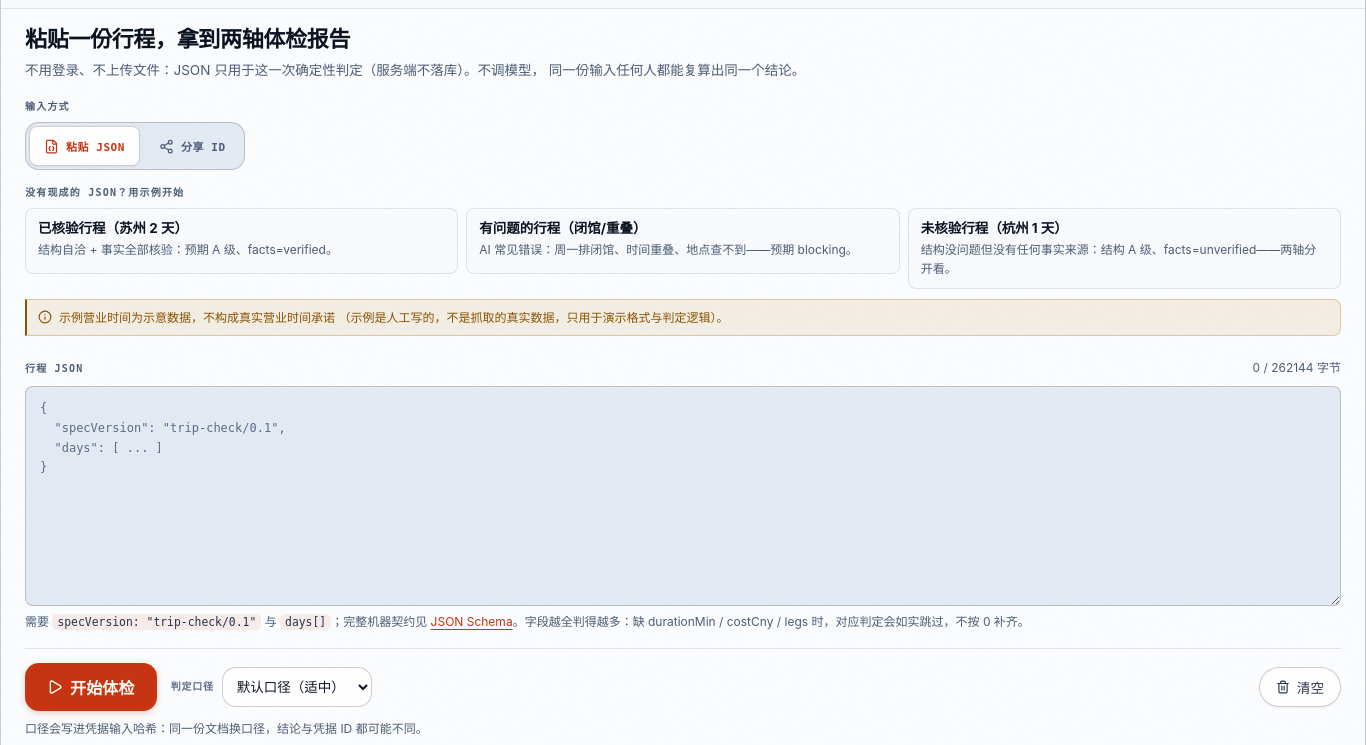
Test: TripCheckPlayground › 空输入：不发请求，给出本地提示
Click the button "开始体检".
click(91, 687)  # box [25, 663, 157, 711]
(page scrolled)
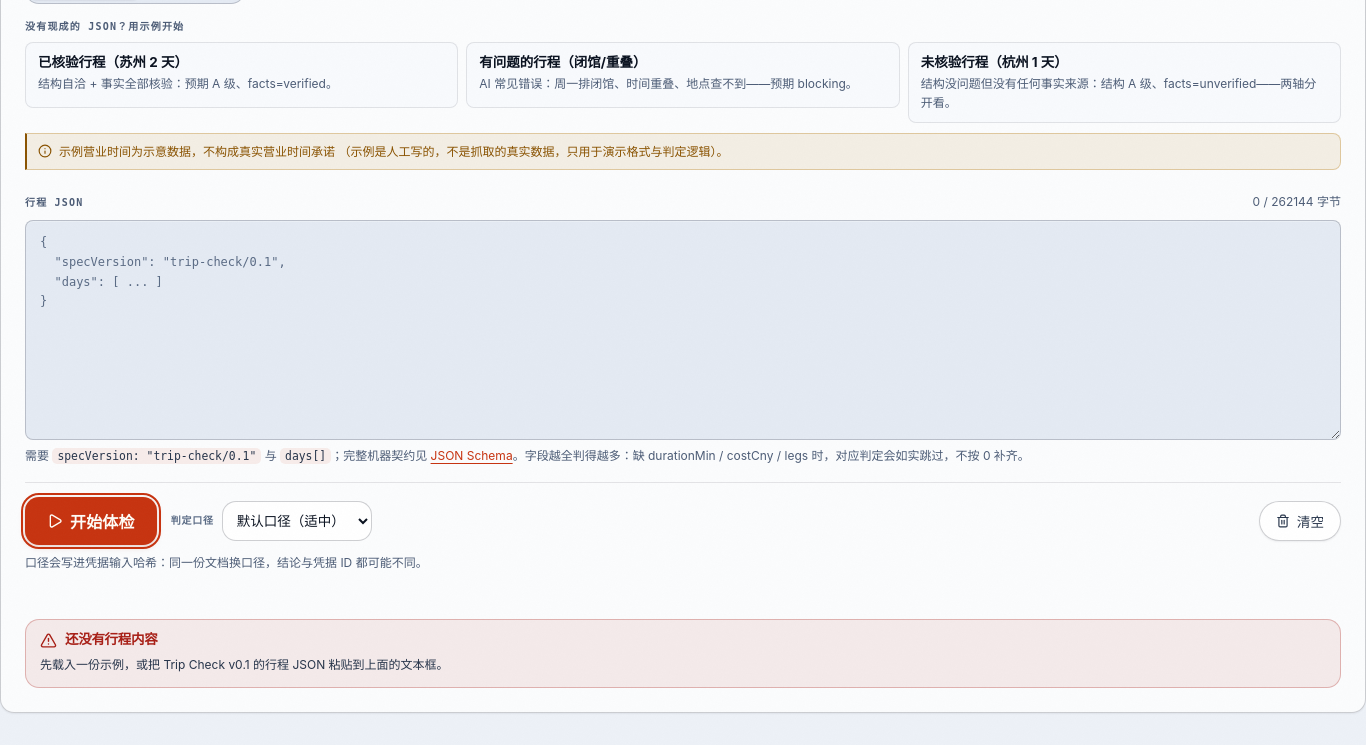
expect the heading "还没有行程内容" is shown: met, box [65, 632, 157, 648]
